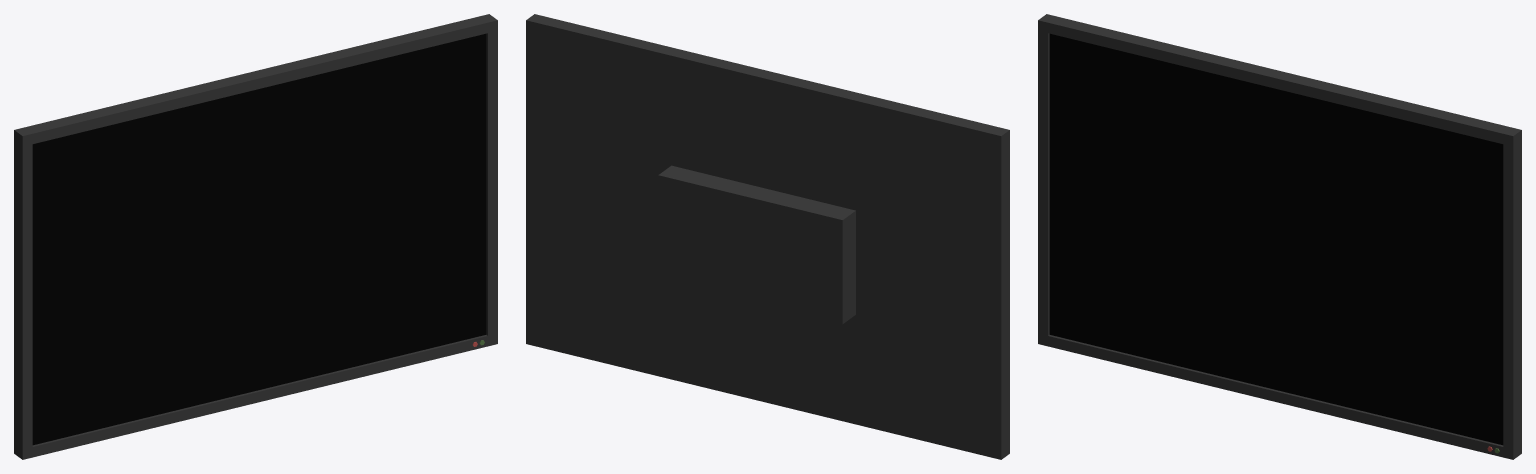
Rendered from ScreenNumbers.fbx.
3 views of the same model, side by side, from view 1: azimuth 30°, elevation 25°; view 2: azimuth 150°, elevation 25°; view 3: azimuth 330°, elevation 25° (orthographic).
Visible parts, largest first — view 1: TV_01; view 2: TV_01; view 3: TV_01.
Boxes of the visible parts, x1,y1,x2,y2 form: TV_01: (14, 14, 497, 459); TV_01: (526, 14, 1009, 459); TV_01: (1038, 14, 1521, 459).
Bounding box in the file's own units: 96 × 62.5 × 7.82.
